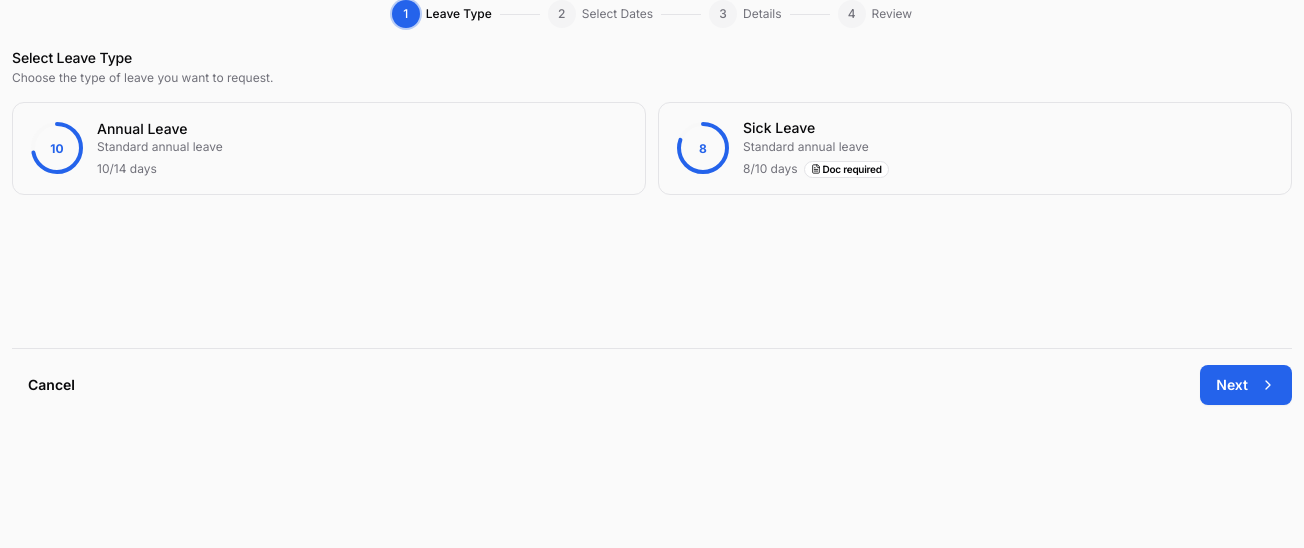
Scenario: LeaveRequestWizard › Step 2: Date Selection › blocks advance when balance is exceeded
Click the text "Annual Leave" at (142, 128), box [97, 120, 187, 136]
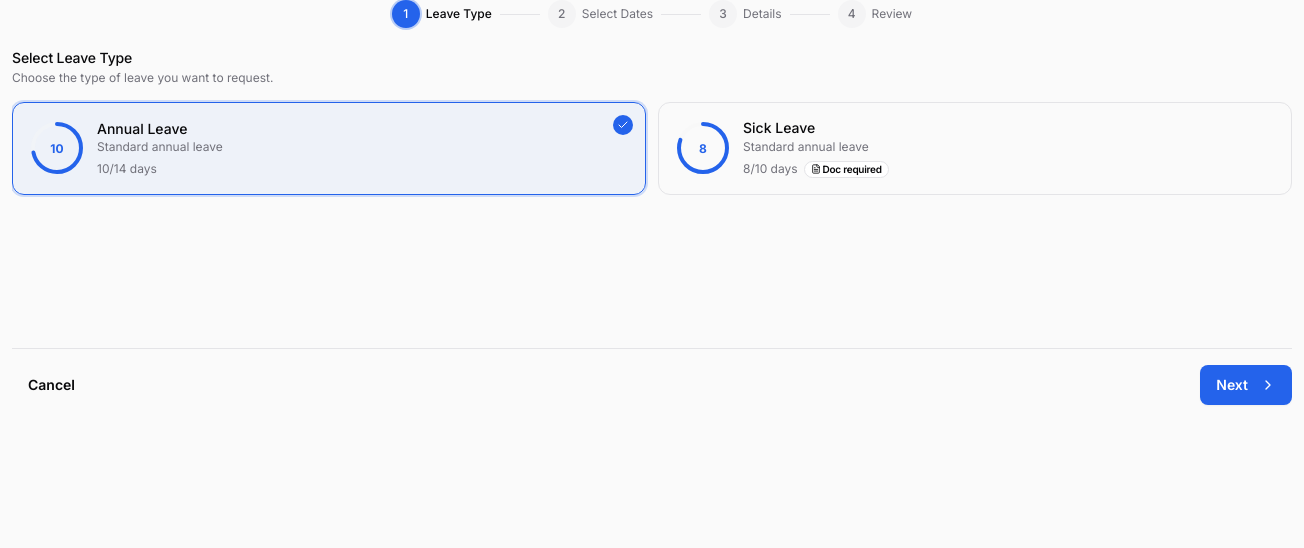
Click the button "Next" at (1246, 385), box [1200, 365, 1292, 405]
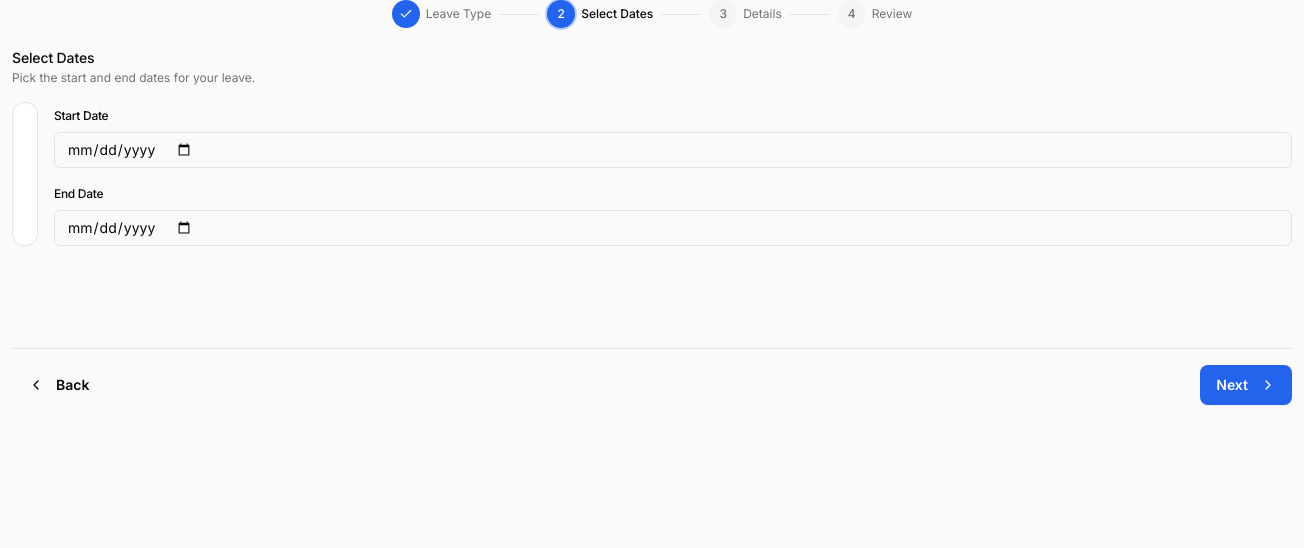
Type "2026-06-01" into the date field below "Start Date" at (673, 150), box [54, 132, 1292, 168]
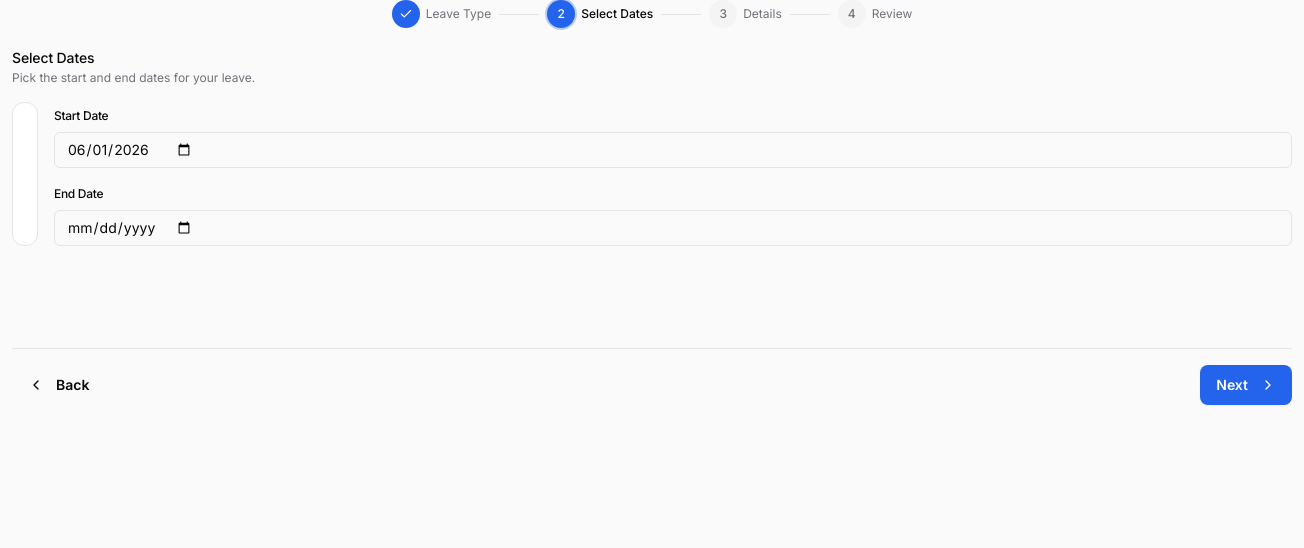
Type "2026-06-15" into the 2nd date field at (673, 228), box [54, 210, 1292, 246]
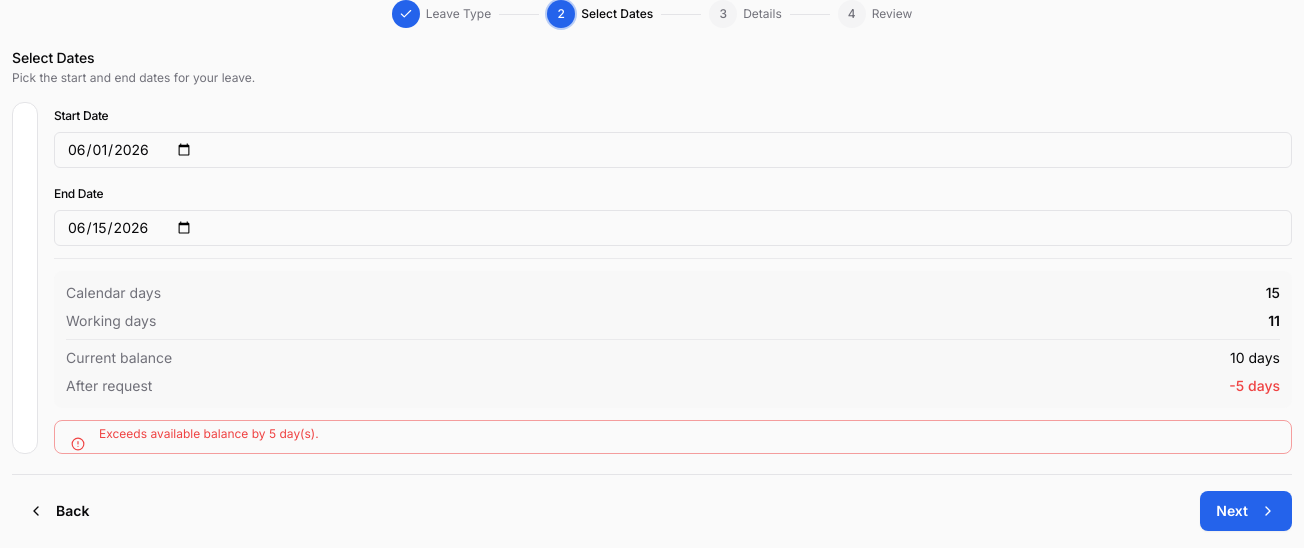
Click the button "Next" at (1246, 511), box [1200, 491, 1292, 531]
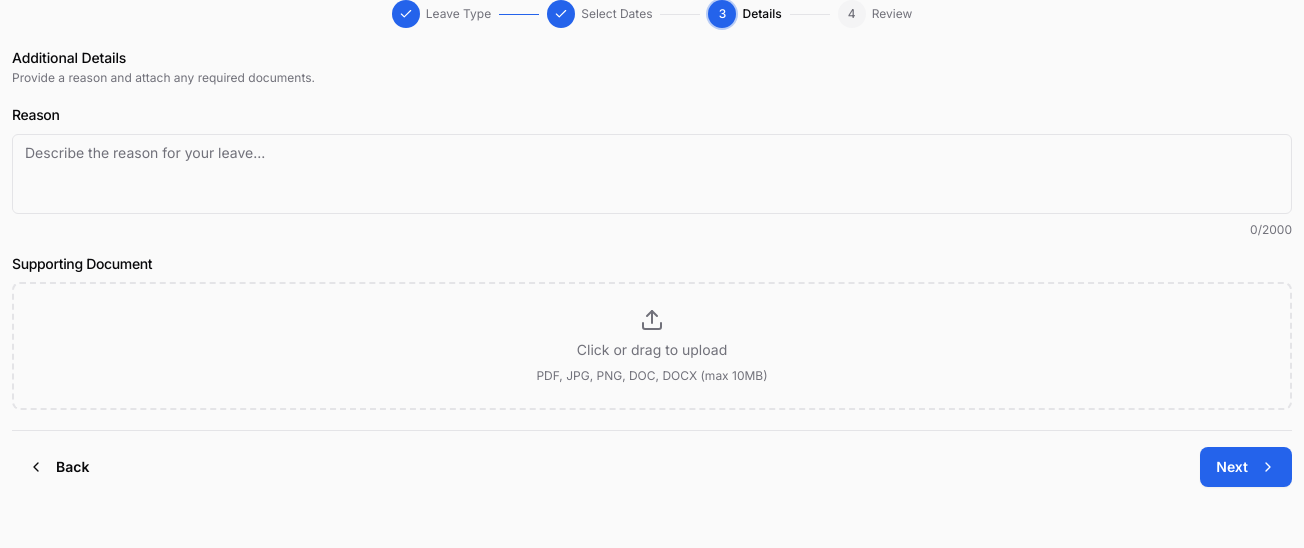
Result: the heading "Additional Details" is shown at [12, 49, 126, 66]
